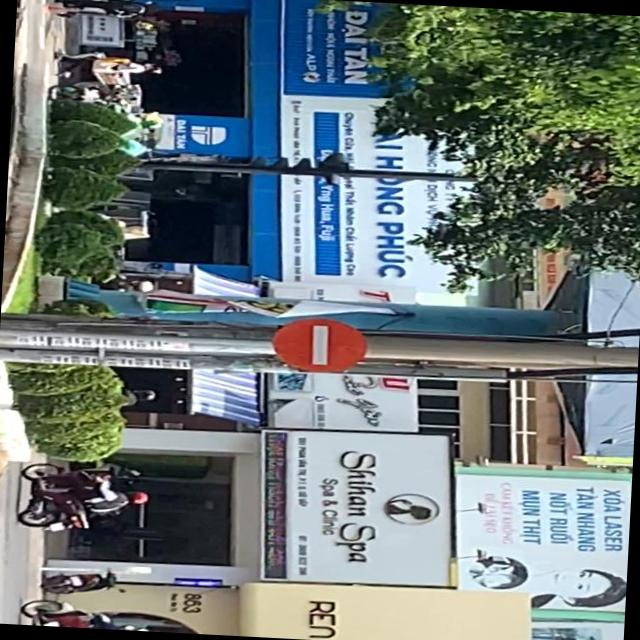P-102: (270, 318, 369, 374)
